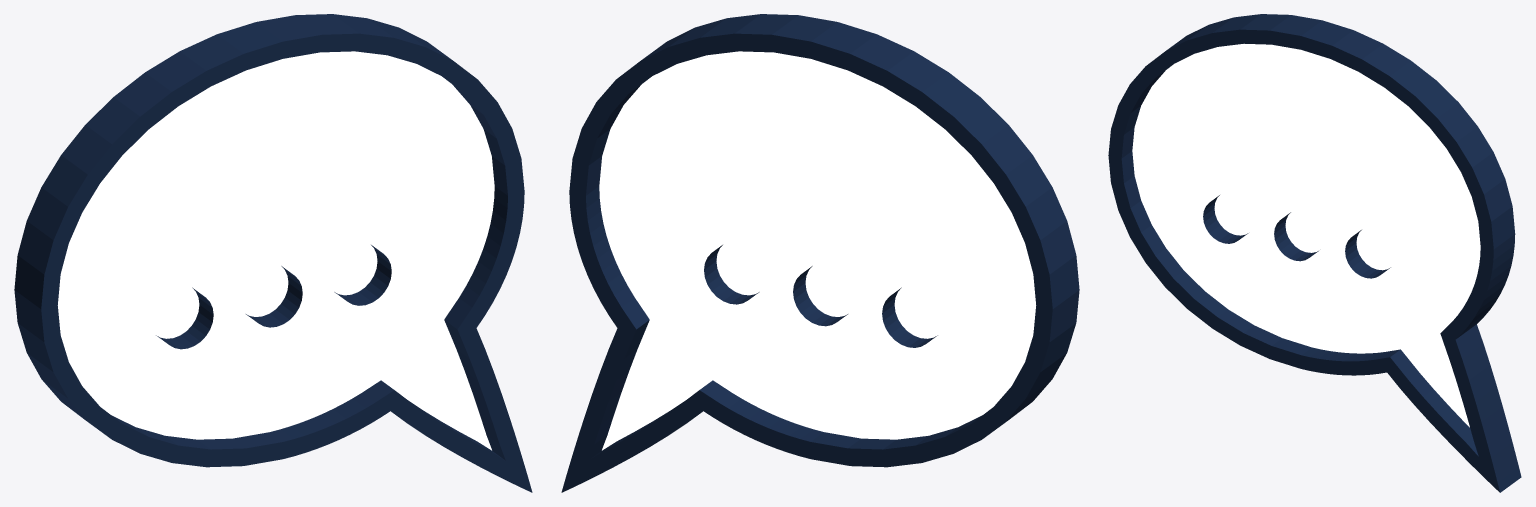
3 views of the same model, side by side, from view 1: azimuth 30°, elevation 25°; view 2: azimuth 150°, elevation 25°; view 3: azimuth 330°, elevation 25° (orthographic). The views are drawn at different scales.
Visible parts, largest first — view 1: iconStory; view 2: iconStory; view 3: iconStory.
Part boxes in pixels (x1,y1,x2,y2): iconStory: [14, 14, 532, 492]; iconStory: [561, 14, 1079, 492]; iconStory: [1108, 14, 1521, 492].
Size of the model in its own units: 0.5553 by 0.5532 by 0.0542.
